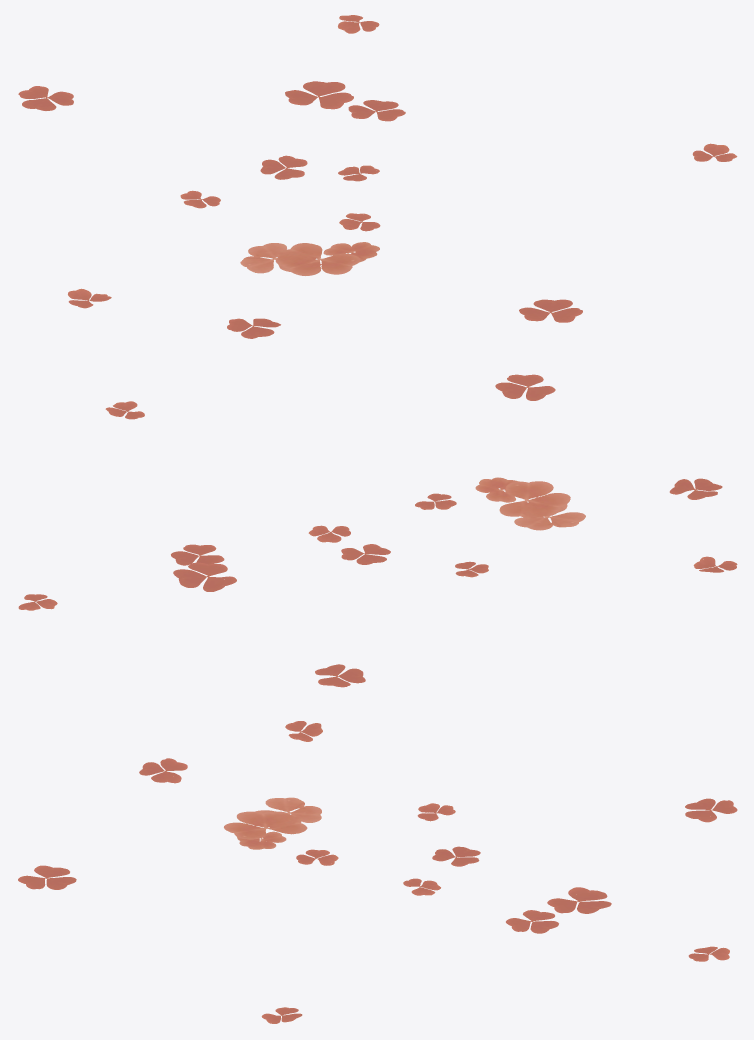
The picture shows the model from 3 angles, top to bottom: view 1: azimuth 30°, elevation 25°; view 2: azimuth 150°, elevation 25°; view 3: azimuth 270°, elevation 25°; orthographic projection. The views are drawn at different scales.
Parts seen in each view (by area): view 1: SM_Desert_Thyme_02_LOD0; view 2: SM_Desert_Thyme_02_LOD0; view 3: SM_Desert_Thyme_02_LOD0.
Boxes of the visible parts, left/top/right/bottom form: SM_Desert_Thyme_02_LOD0: left=18, top=15, right=737, bottom=338; SM_Desert_Thyme_02_LOD0: left=18, top=374, right=737, bottom=687; SM_Desert_Thyme_02_LOD0: left=18, top=721, right=737, bottom=1023.
Bounding box in the file's own units: 1.23 × 0.0179 × 1.23.
1 material, 1 textured.
